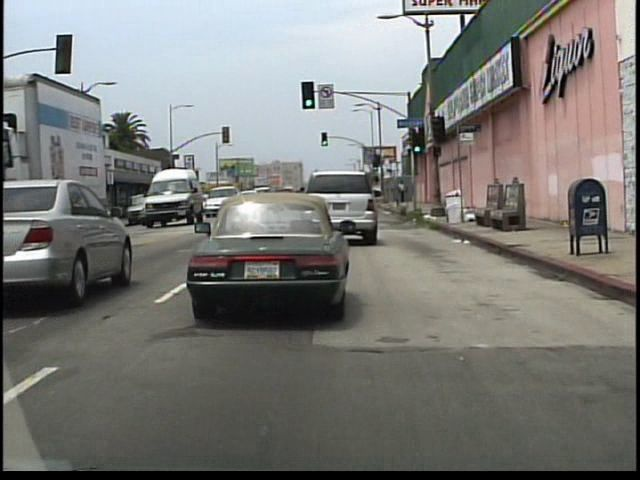person: (398, 181, 408, 204)
